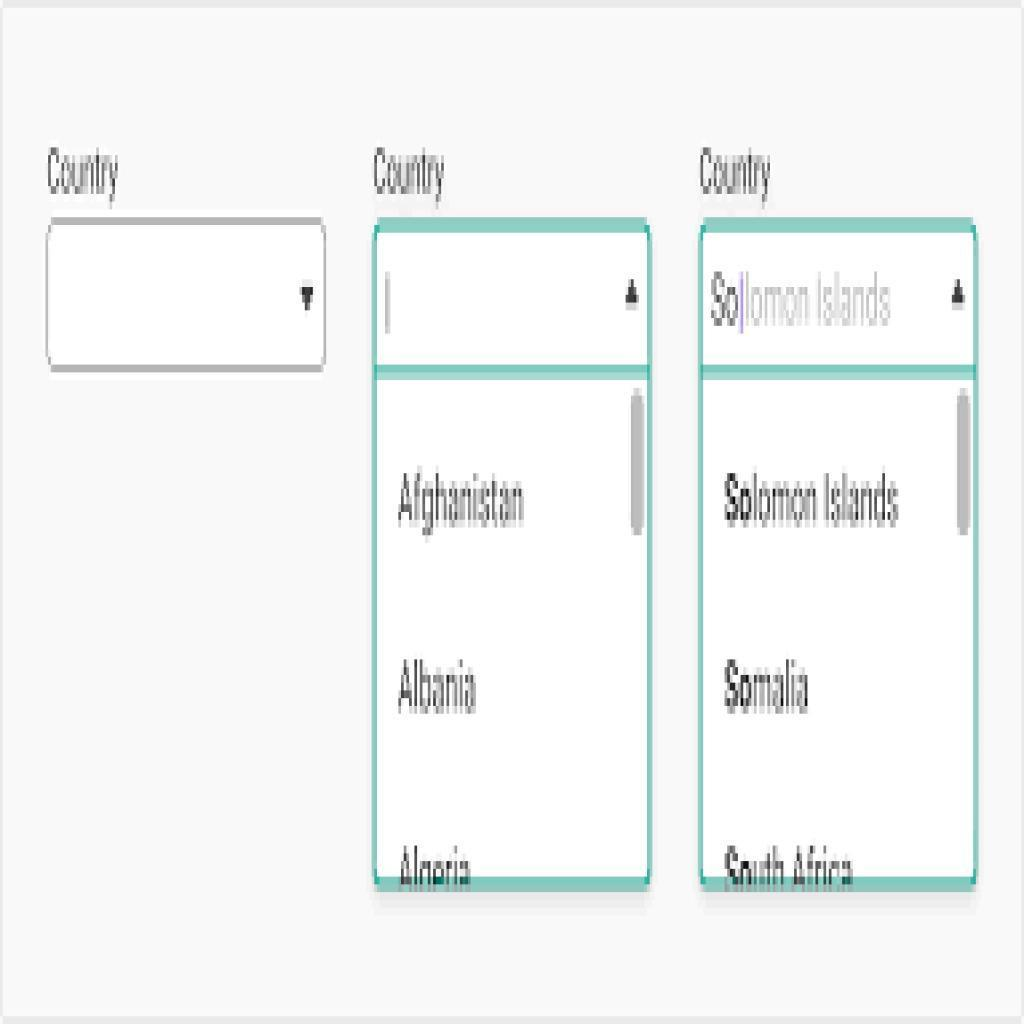dropdown: (378, 225, 647, 380), (47, 221, 324, 370), (701, 229, 975, 377)
label: (720, 467, 909, 535), (393, 467, 533, 540), (723, 841, 856, 888), (720, 660, 819, 723), (397, 655, 481, 729), (392, 845, 484, 888)
